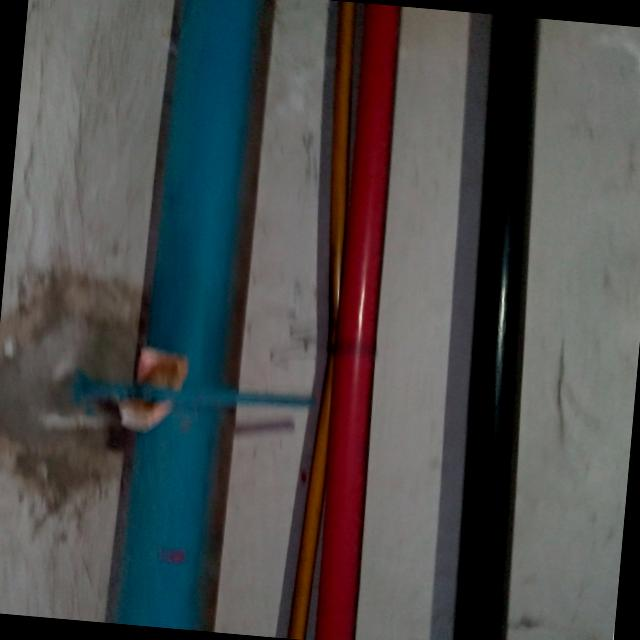gas: (107, 0, 282, 633), (437, 14, 561, 640), (308, 2, 410, 640)
